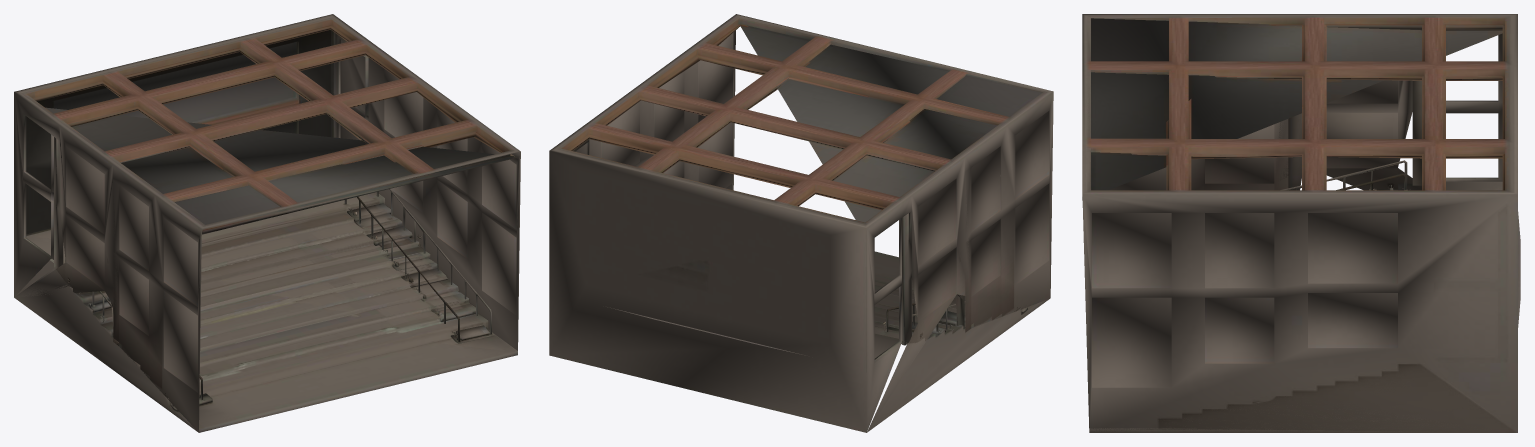
The model's file is times-square-premium-auditorium.glb.
3 views of the same model, side by side, from view 1: azimuth 30°, elevation 25°; view 2: azimuth 150°, elevation 25°; view 3: azimuth 270°, elevation 25° (orthographic). The views are drawn at different scales.
Visible parts, largest first — view 1: Times Square premium auditorium; view 2: Times Square premium auditorium; view 3: Times Square premium auditorium.
Boxes of the visible parts, x1,y1,x2,y2 form: Times Square premium auditorium: (14, 14, 520, 432); Times Square premium auditorium: (549, 14, 1053, 432); Times Square premium auditorium: (1082, 14, 1520, 432).
Bounding box in the file's own units: 0.9746 × 0.5996 × 0.998.
Materials: 1 (1 with a texture image).
